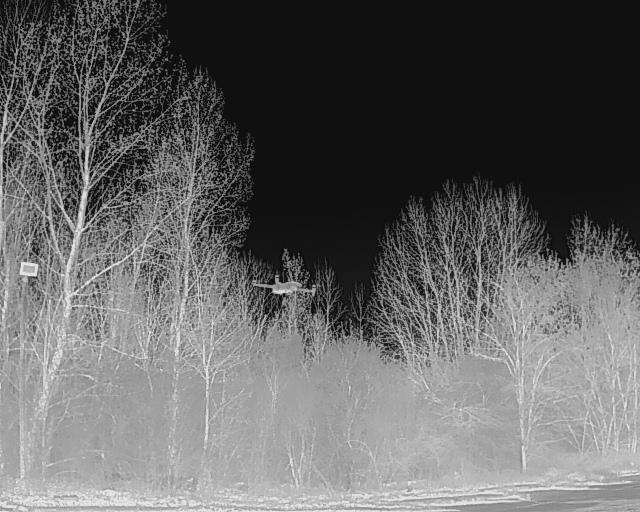drone: (242, 268, 331, 306)
